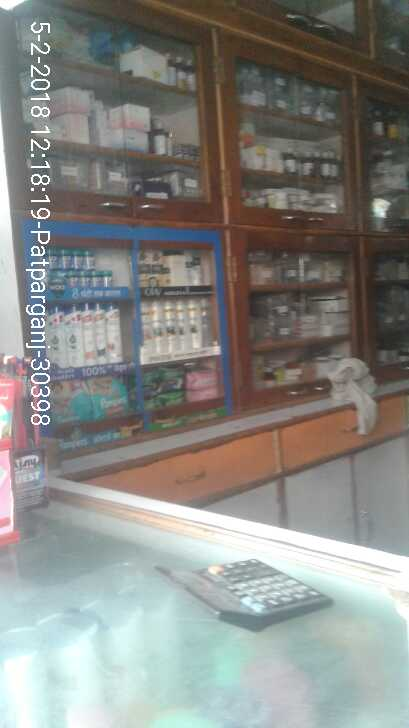beauty: (47, 308, 65, 366), (66, 308, 82, 364), (141, 302, 156, 355), (81, 306, 95, 362), (108, 303, 121, 361), (95, 304, 107, 362), (155, 301, 168, 354), (166, 302, 180, 350), (179, 301, 191, 349), (190, 300, 202, 347), (139, 250, 153, 286), (154, 252, 168, 285), (202, 299, 210, 346), (194, 257, 205, 268), (184, 258, 192, 269)
pharmacy: (91, 379, 130, 417), (53, 384, 90, 419), (47, 272, 114, 288), (143, 368, 185, 390), (189, 370, 223, 387), (144, 391, 182, 404), (185, 389, 223, 401), (60, 250, 73, 269), (45, 250, 58, 268), (73, 251, 83, 269), (84, 252, 95, 267)
